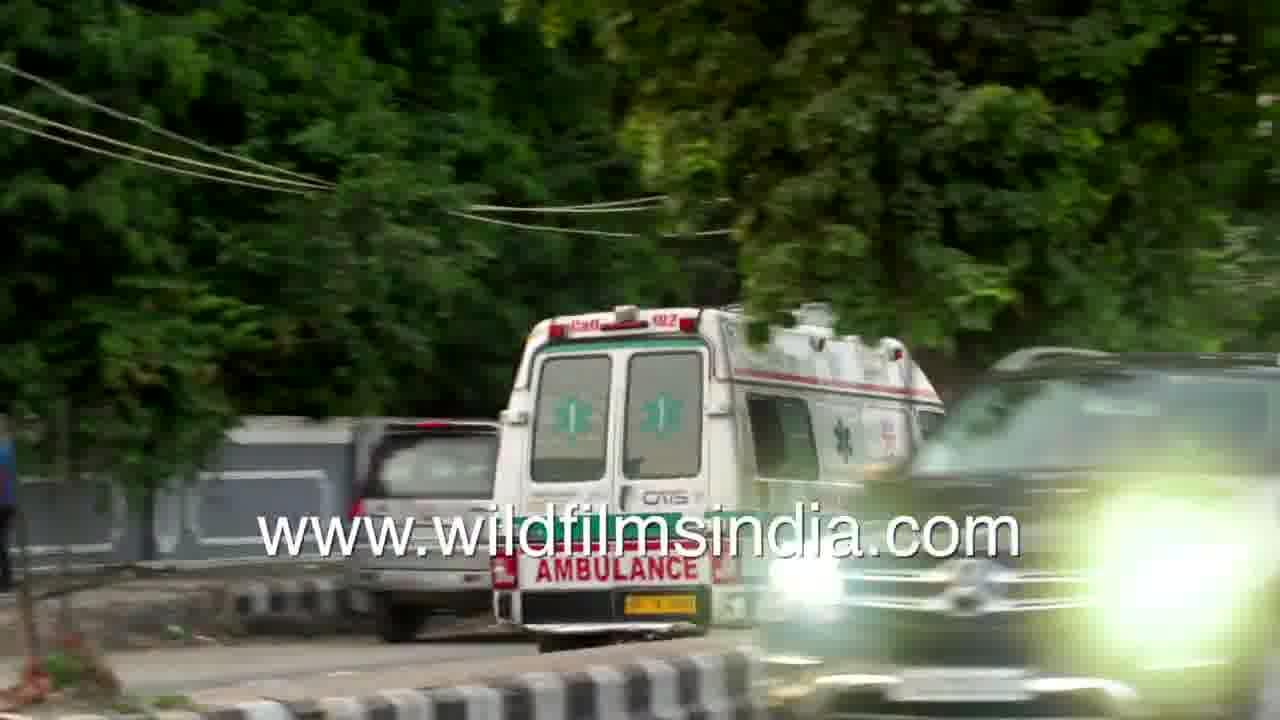AMBULANCE: (494, 292, 910, 496), (482, 552, 744, 634)
